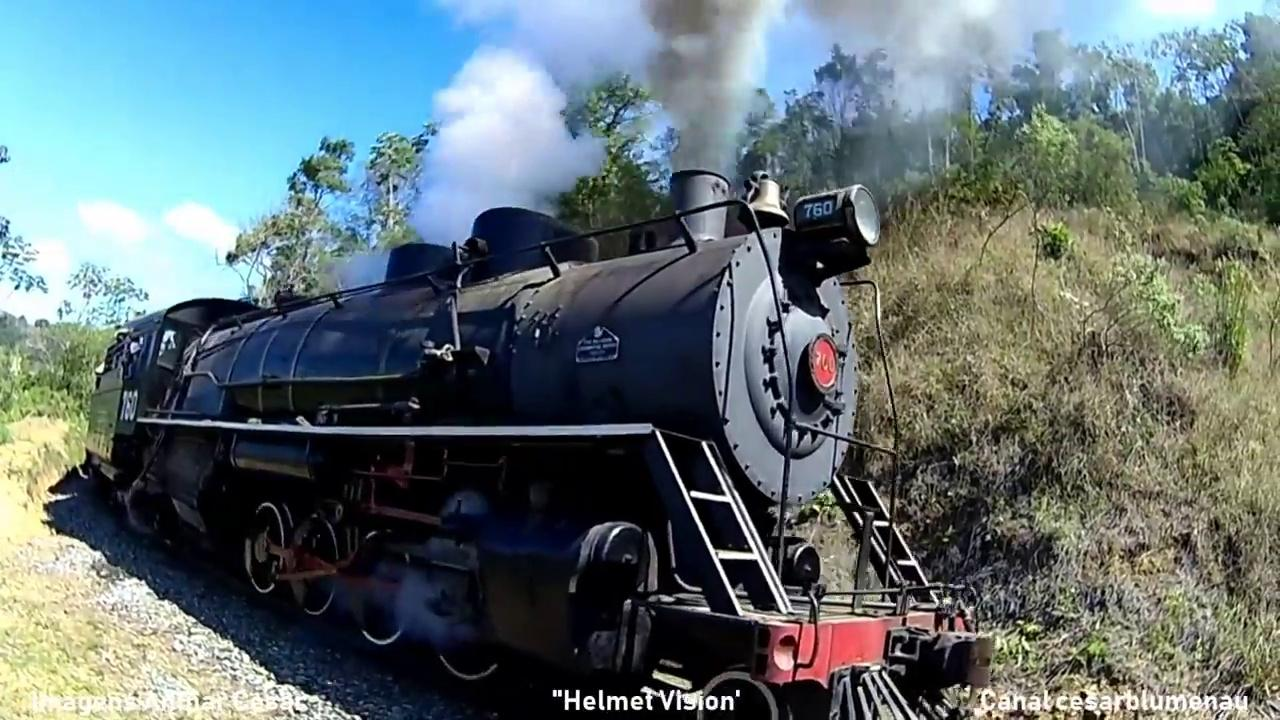Smoke: (823, 10, 1076, 151), (615, 6, 794, 190)
